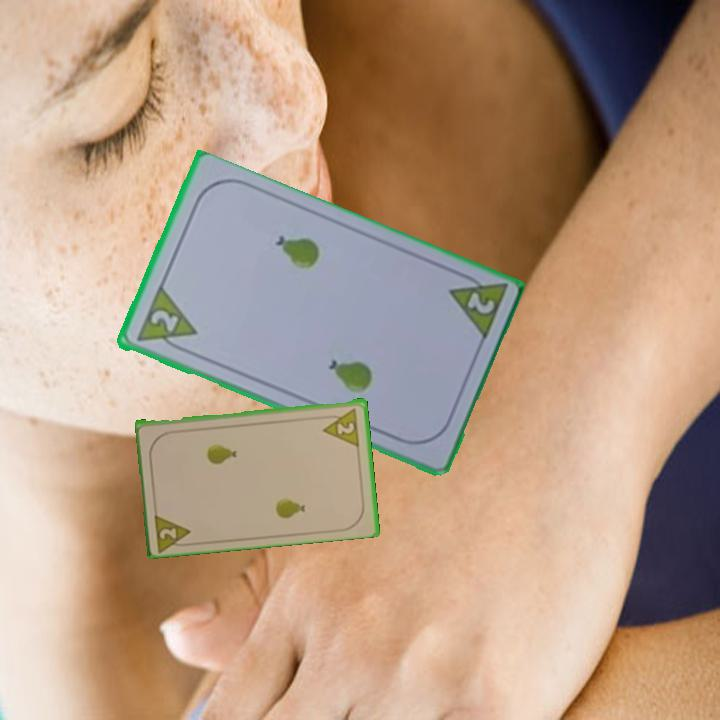2p: (443, 267, 510, 345), (151, 508, 196, 553), (319, 404, 362, 448), (146, 306, 181, 336)
